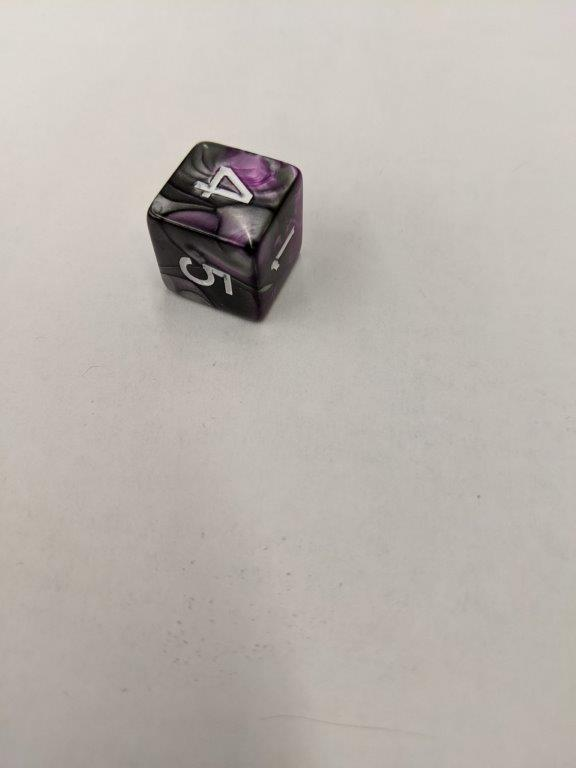d6-4: (145, 140, 303, 323)
